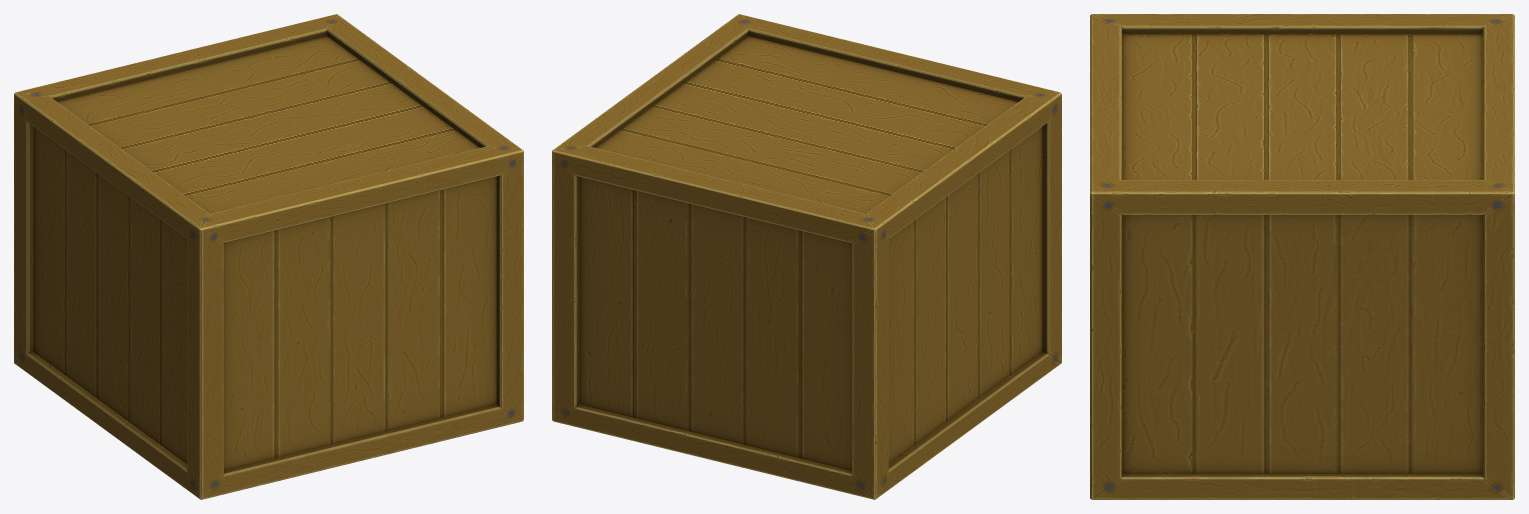
Rendered from CrateLargeTris_Box_Tris.fbx.
The picture shows the model from 3 angles, left to right: view 1: azimuth 30°, elevation 25°; view 2: azimuth 150°, elevation 25°; view 3: azimuth 270°, elevation 25°; orthographic projection. The views are drawn at different scales.
Parts seen in each view (by area): view 1: CrateLargeTris_Box_Tris_LOD0; view 2: CrateLargeTris_Box_Tris_LOD0; view 3: CrateLargeTris_Box_Tris_LOD0.
Boxes of the visible parts, left/top/right/bottom form: CrateLargeTris_Box_Tris_LOD0: left=14, top=14, right=523, bottom=499; CrateLargeTris_Box_Tris_LOD0: left=552, top=14, right=1061, bottom=499; CrateLargeTris_Box_Tris_LOD0: left=1090, top=14, right=1514, bottom=499.
Bounding box in the file's own units: 100 × 100 × 80.
Materials: 1 (1 with a texture image).
